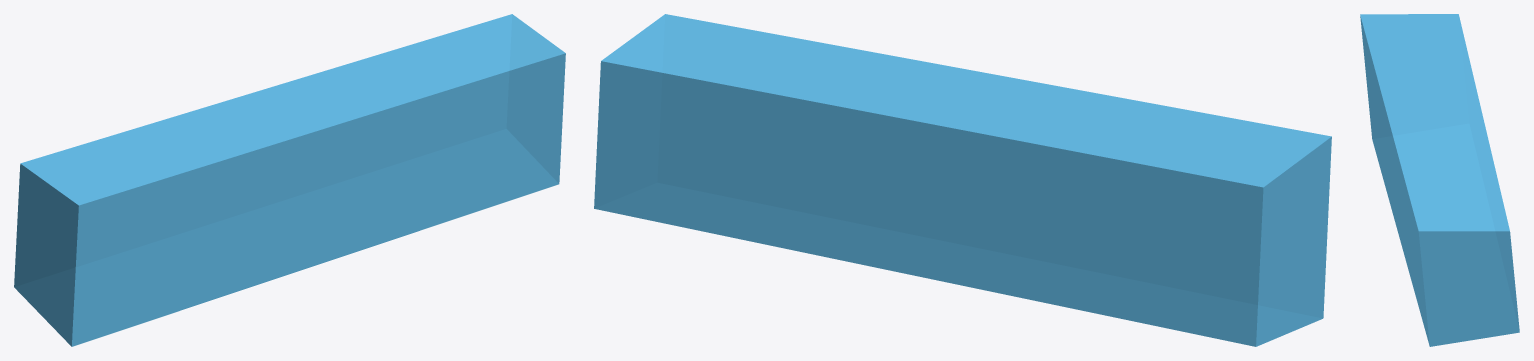
Rendered from Event_421127236_HErechit_30.fbx.
The picture shows the model from 3 angles, left to right: view 1: azimuth 30°, elevation 25°; view 2: azimuth 150°, elevation 25°; view 3: azimuth 270°, elevation 25°; orthographic projection. The views are drawn at different scales.
Visible parts, largest first — view 1: Model; view 2: Model; view 3: Model.
Part boxes in pixels (x1,y1,x2,y2): Model: [14, 14, 565, 346]; Model: [594, 14, 1331, 346]; Model: [1360, 14, 1519, 346].
Size of the model in its own units: 0.8473 by 0.2273 by 0.2633.
